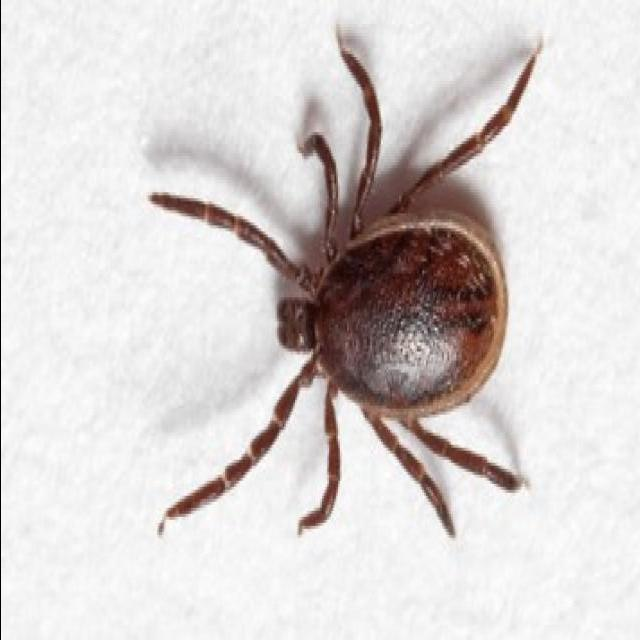Ixodes Ricinus-M: (145, 45, 534, 535)
